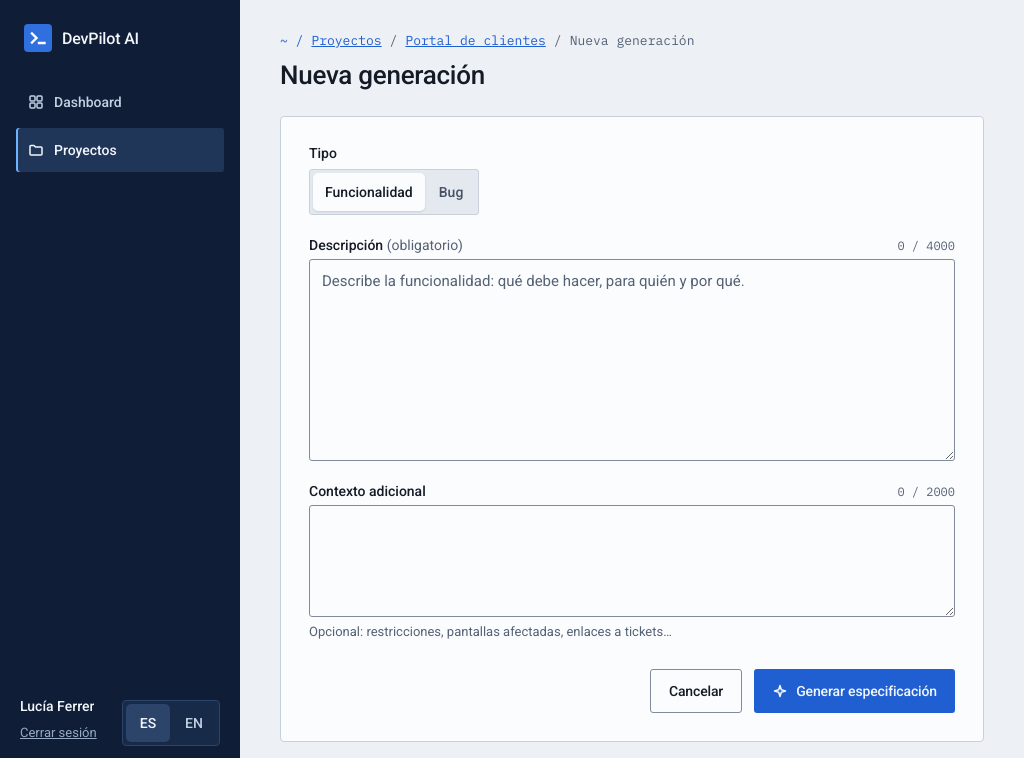
it: a new generation › explains the daily limit and when it resets
Type "Quiero exportar el historial de pedidos a CSV" into the text box labelled "Descripción (obligatorio)". click: [632, 360]
box: [309,258,955,460]
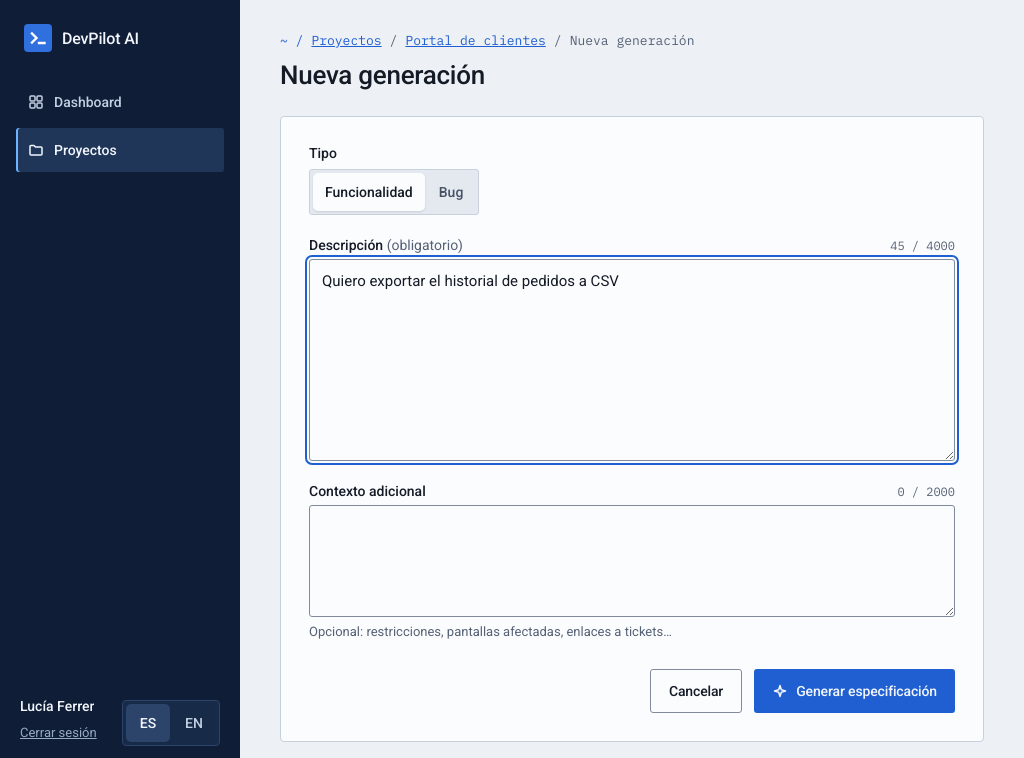
Click the button "Generar especificación". click: [855, 691]
box: [754,669,955,713]
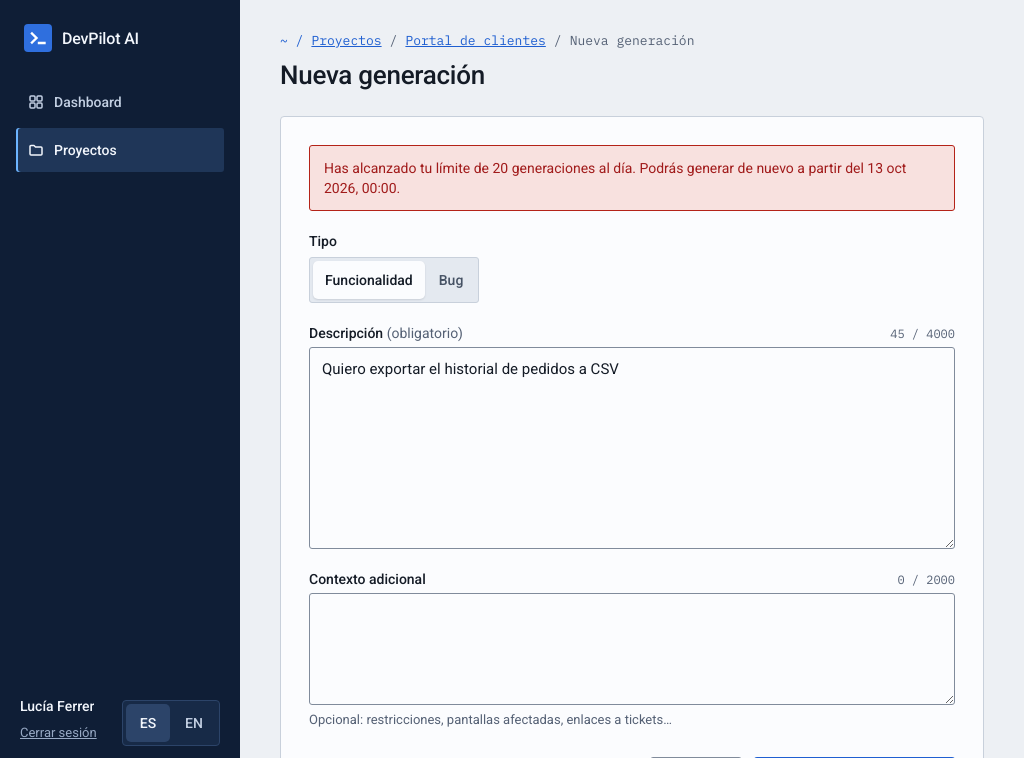
Expected: the message shows "límite de 20 generaciones al día. Podrás generar de nuevo a partir del", [324,160,906,196]
